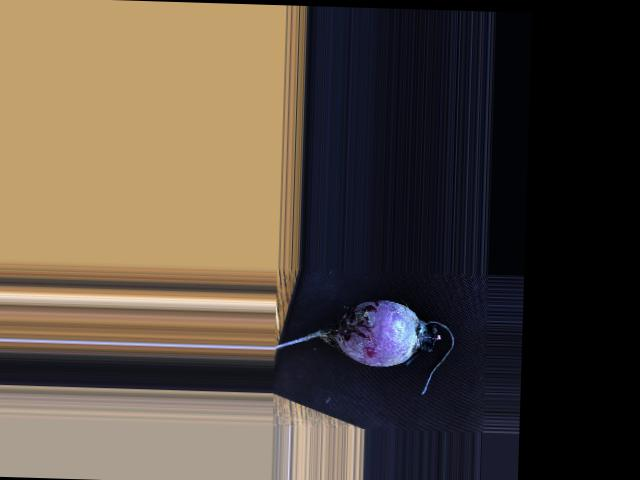beet: (272, 296, 455, 395)
